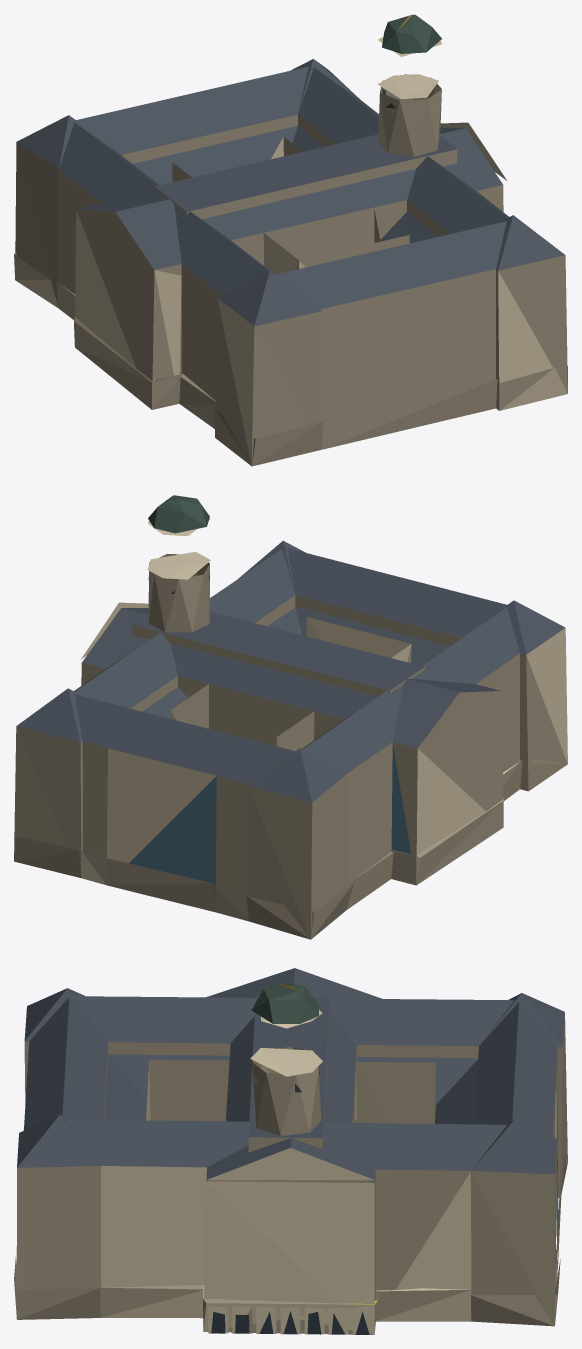
Rendered from palace-on-the-dam.lod2.glb.
3 views of the same model, one above another, from view 1: azimuth 30°, elevation 25°; view 2: azimuth 150°, elevation 25°; view 3: azimuth 270°, elevation 25° (orthographic). The views are drawn at different scales.
Parts seen in each view (by area): view 1: lod2; view 2: lod2; view 3: lod2.
Part boxes in pixels (bbox=[...]): lod2: bbox=[14, 14, 567, 466]; lod2: bbox=[14, 495, 567, 939]; lod2: bbox=[14, 968, 567, 1334].
Size of the model in its own units: 67.11 by 52.56 by 83.28.
